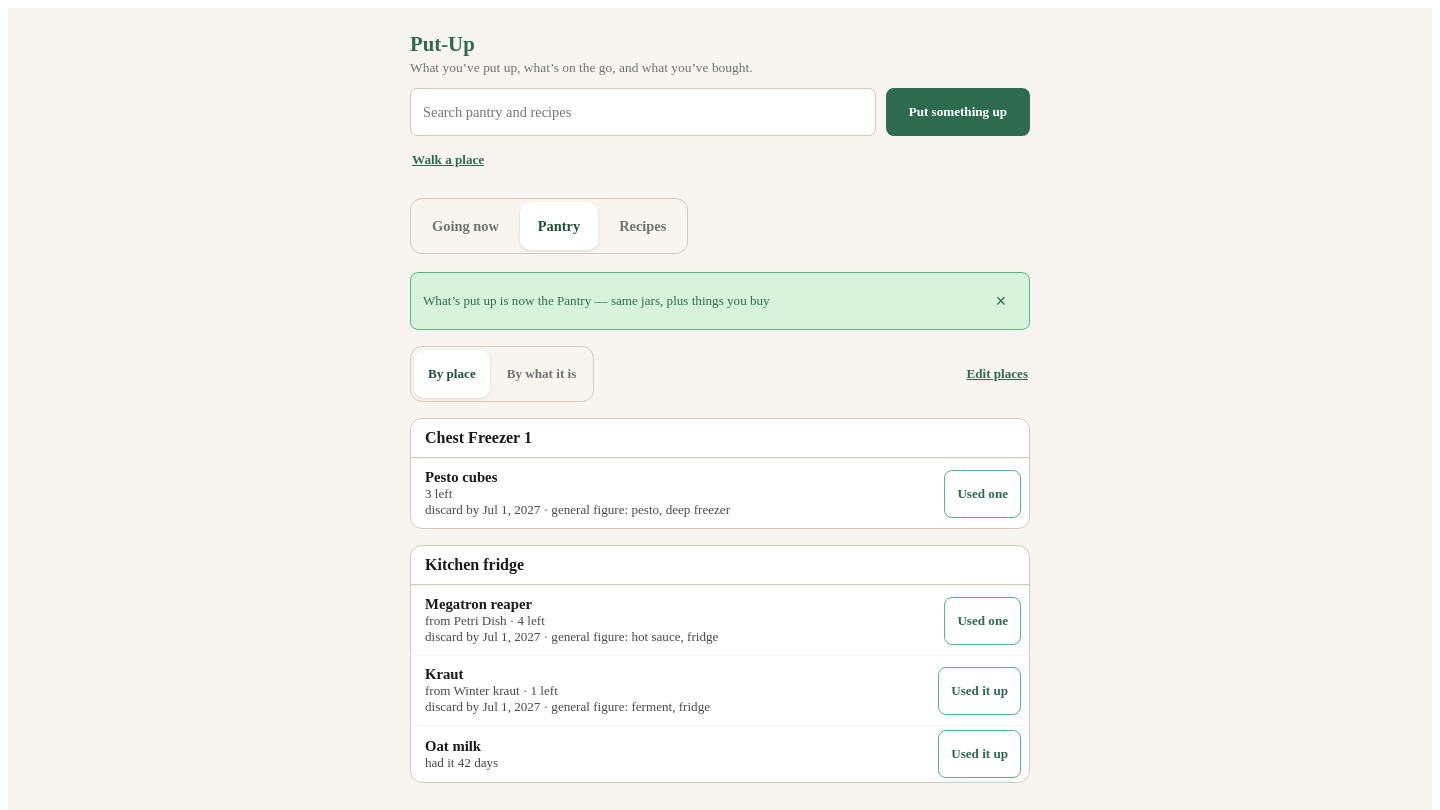
it: the page reads the batch names once, for both children › a Pantry open asks once; a search, and the Pantry again, ask nothing more
The image size is (1440, 810).
In the search field with test id "pantry-search": [643, 112] box x1=410 y1=88 x2=876 y2=136, type "reaper"
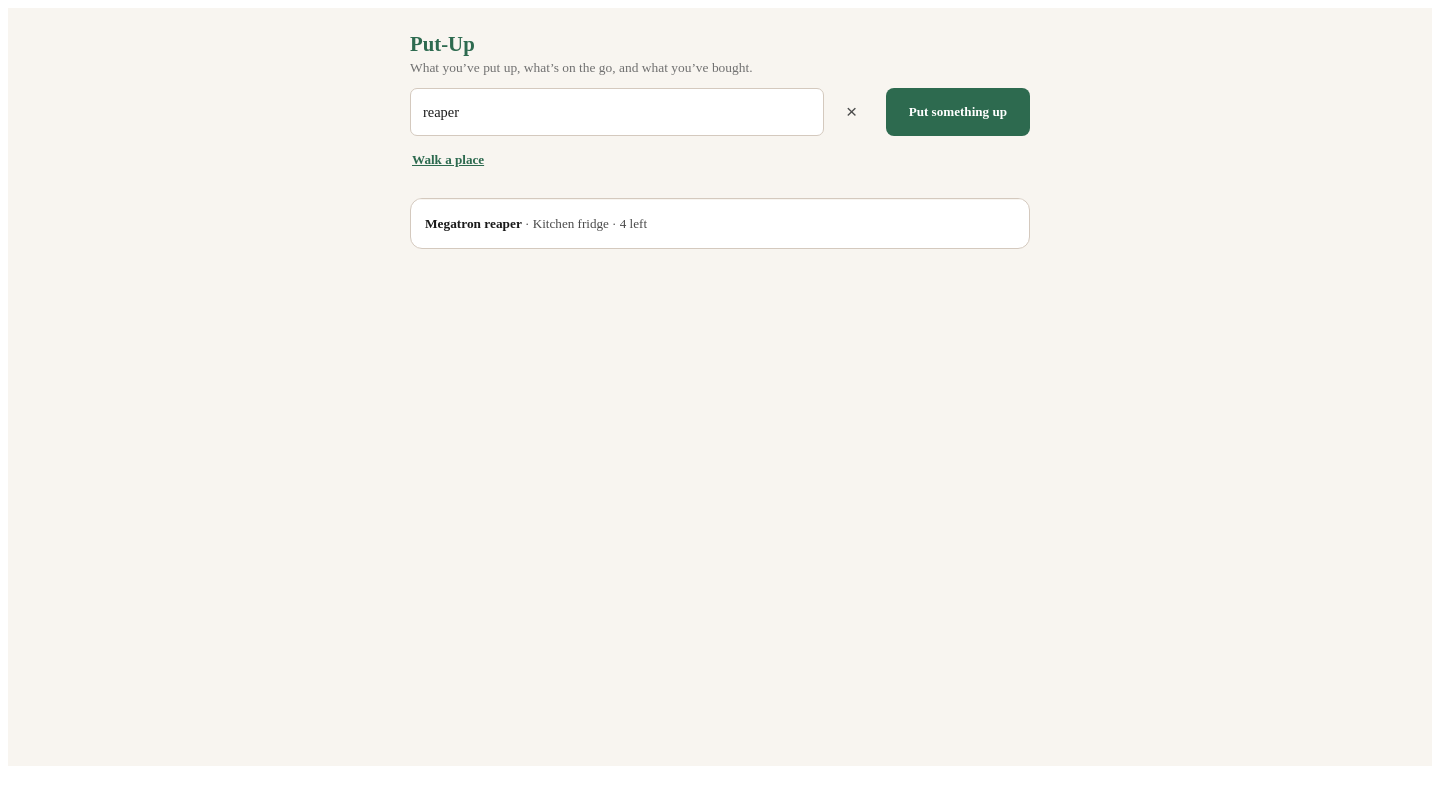
Expected: the element with test id "pantry-search-results" is shown
Click the button with test id "pantry-search-hit-put_up:jar-reaper": [473, 224] box x1=411 y1=200 x2=1029 y2=248
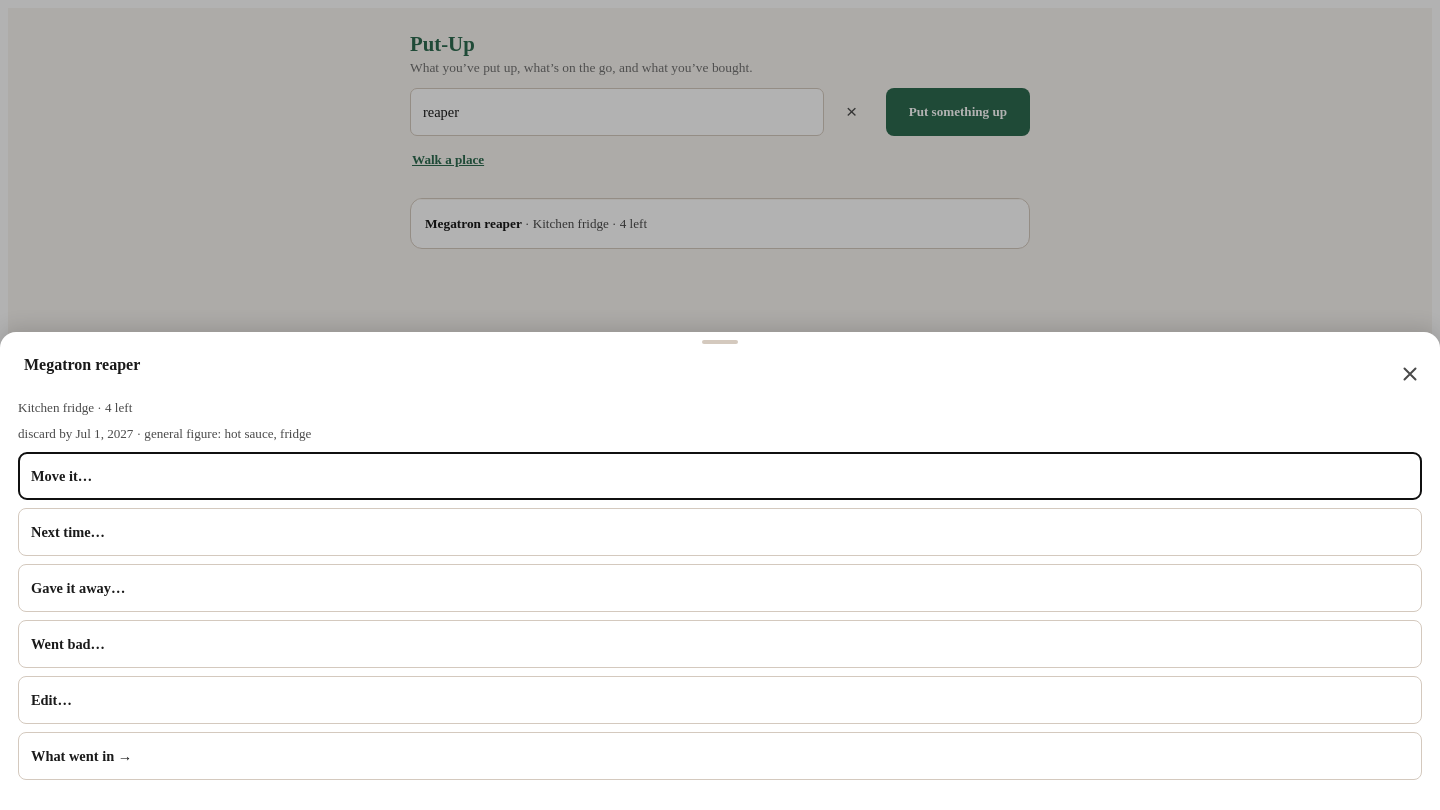
Expected: the button with test id "row-what-went-in" reads "What went in →", x1=18 y1=732 x2=1422 y2=780
Press Escape
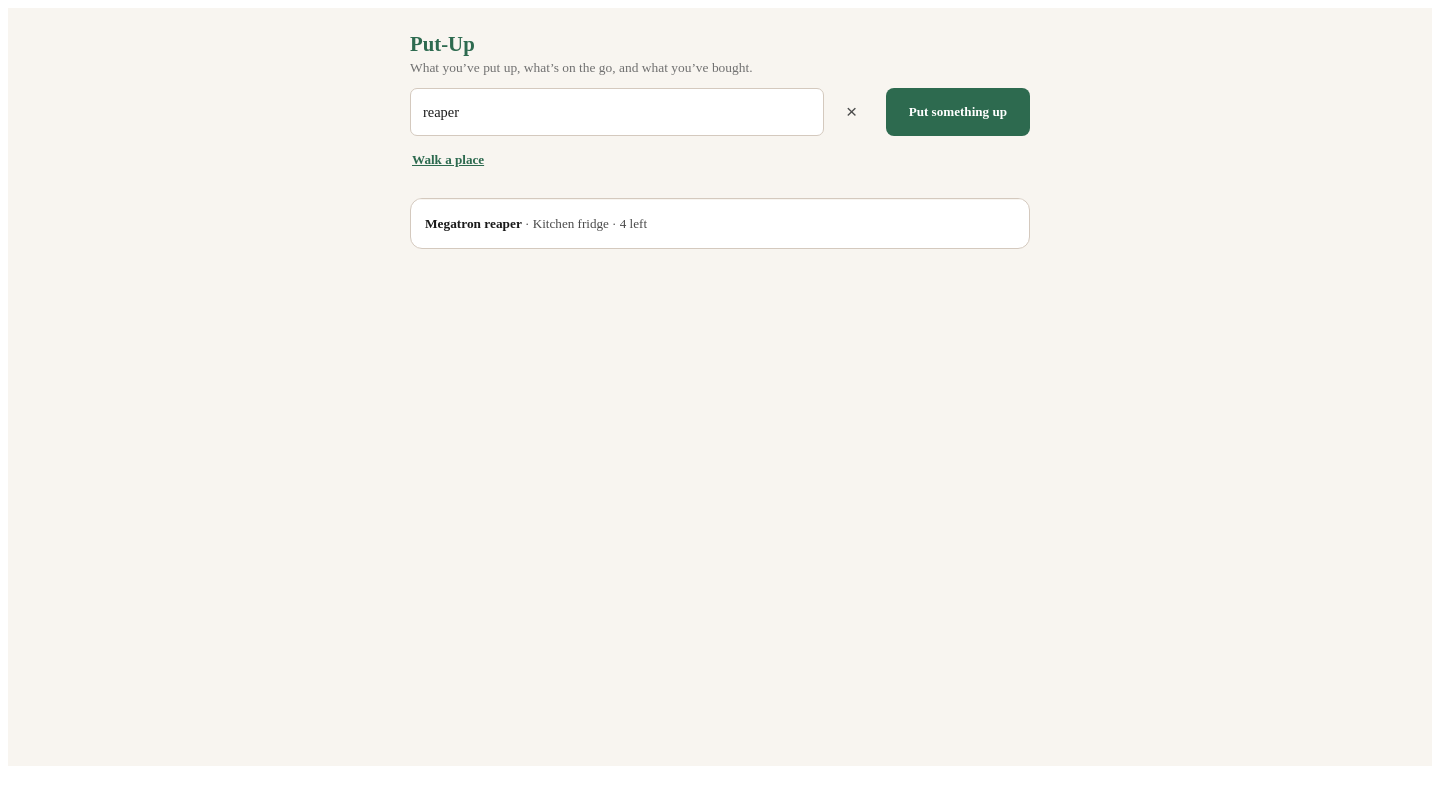
Expected: the element with test id "row-sheet" is gone
Click the button with test id "pantry-search-clear": [852, 112] box x1=828 y1=88 x2=876 y2=136
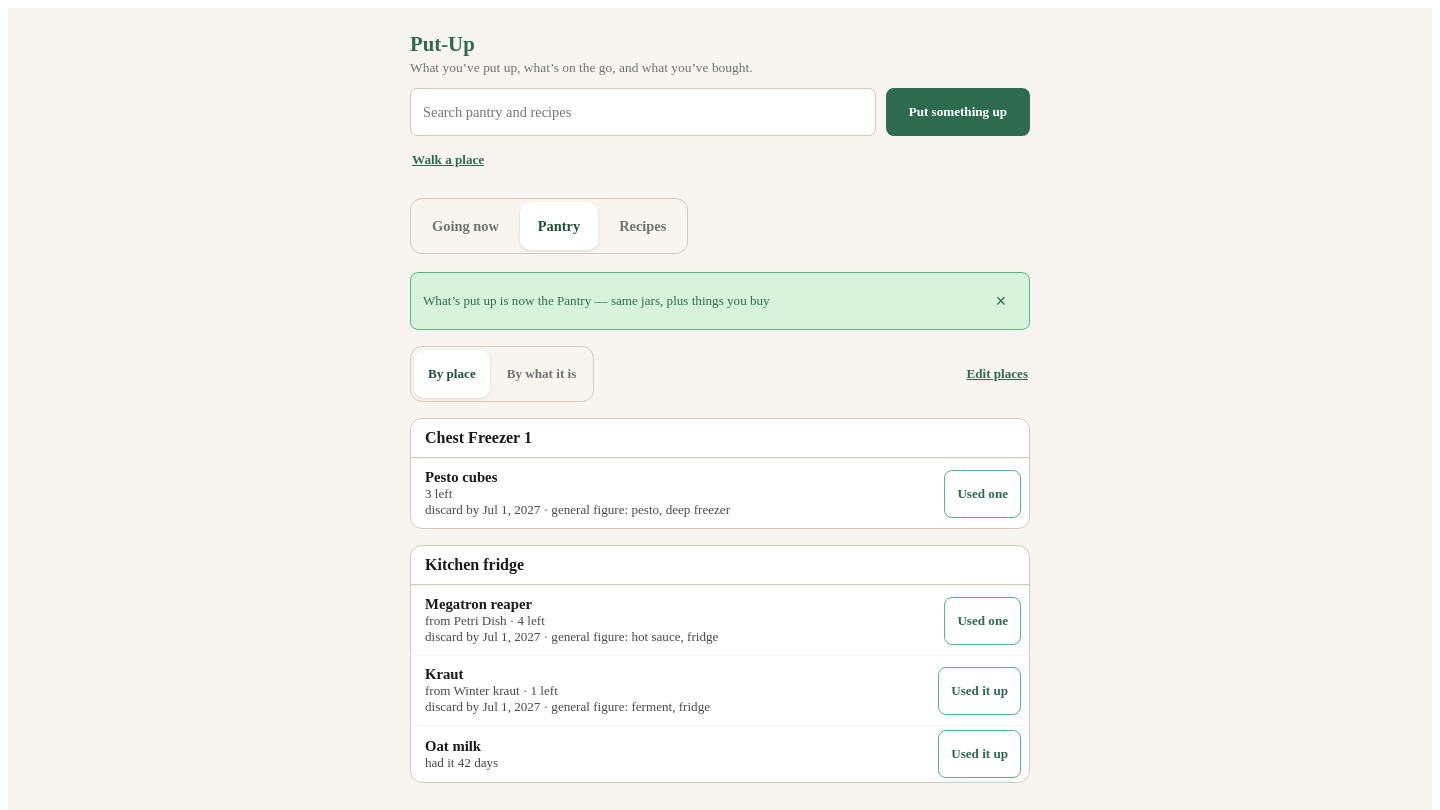
Expected: the element with test id "pantry-view" is shown, x1=410 y1=272 x2=1030 y2=783
Expected: the button with test id "pantry-row-open-put_up:jar-reaper" shows "from Petri Dish · 4 left", x1=419 y1=590 x2=936 y2=651
